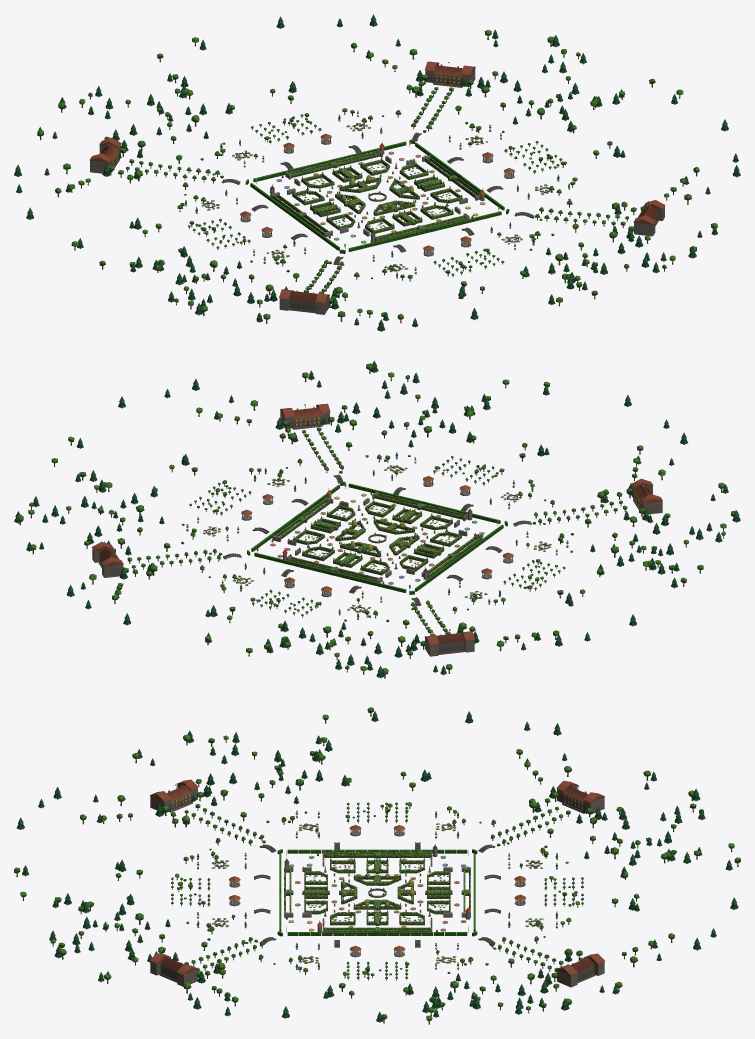
File: gardens.glb
3 views of the same model, one above another, from view 1: azimuth 30°, elevation 25°; view 2: azimuth 150°, elevation 25°; view 3: azimuth 270°, elevation 25° (orthographic). The views are drawn at different scales.
Visible parts, largest first — view 1: Props; view 2: Props; view 3: Props.
Boxes of the visible parts, bbox=[...] form: Props: bbox=[14, 14, 740, 331]; Props: bbox=[14, 360, 740, 678]; Props: bbox=[14, 707, 740, 1024].
Size of the model in its own units: 398 by 24.42 by 397.
24 materials, 24 textured.
